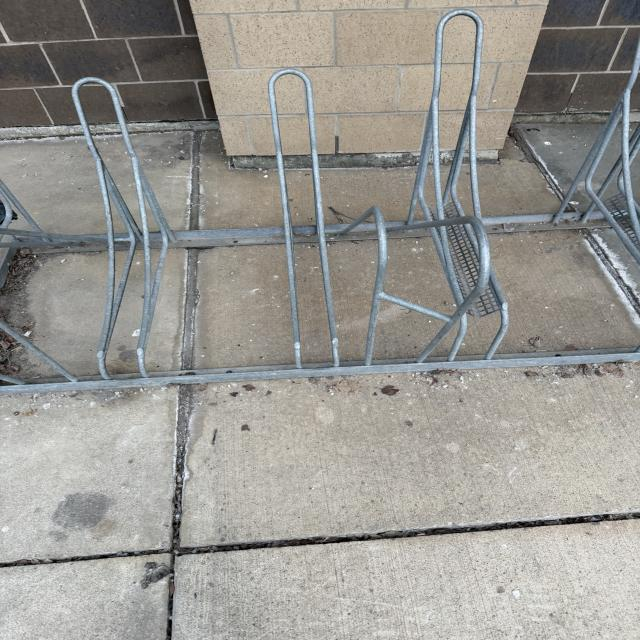Bicycle Rack: (0, 12, 636, 394)
